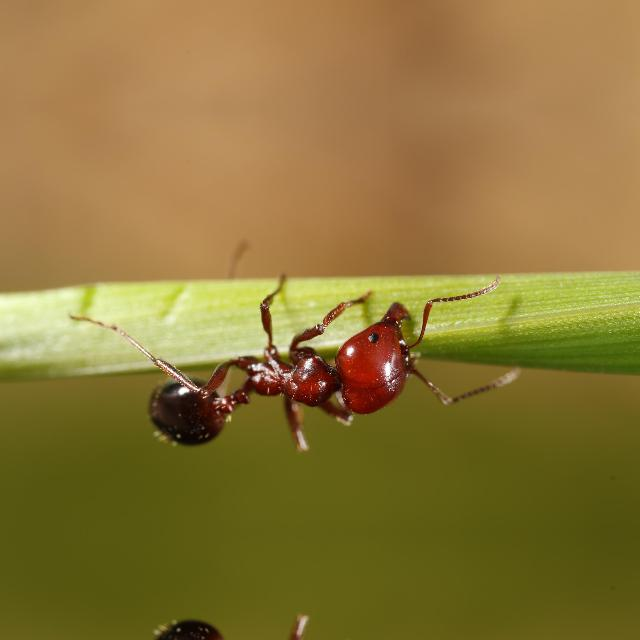Messor: (142, 312, 412, 440)
